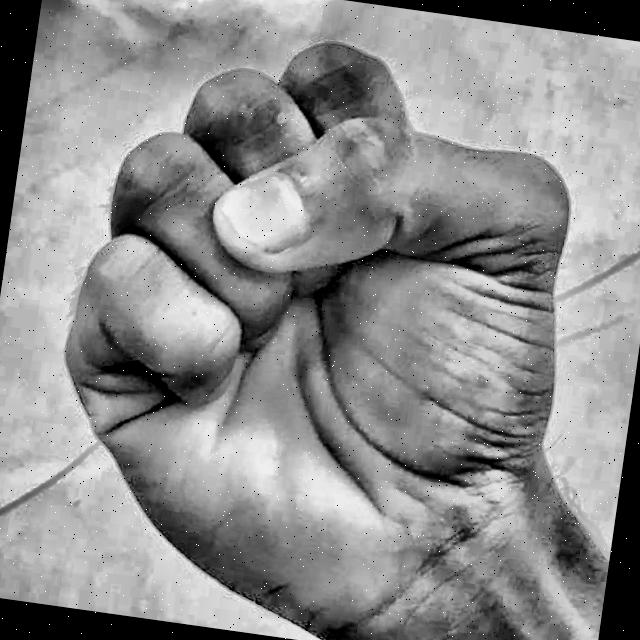Sha: (4, 0, 620, 640)
